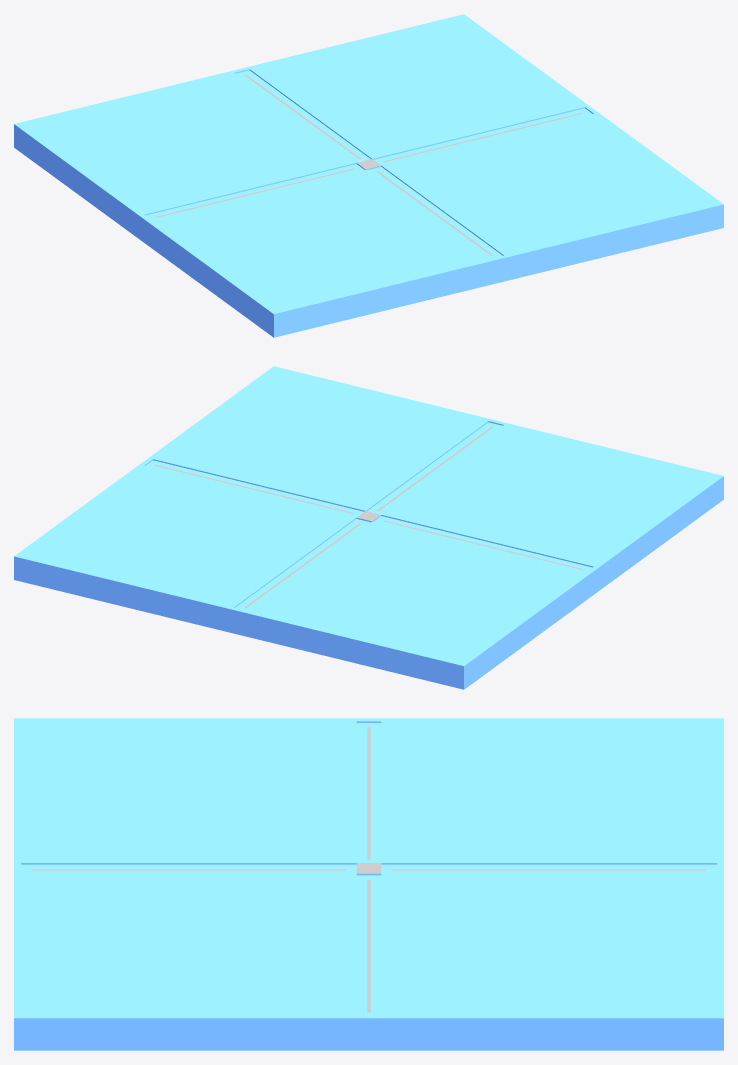
File: floor_3.fbx
3 views of the same model, one above another, from view 1: azimuth 30°, elevation 25°; view 2: azimuth 150°, elevation 25°; view 3: azimuth 270°, elevation 25° (orthographic). The views are drawn at different scales.
Parts seen in each view (by area): view 1: floor_3.001; view 2: floor_3.001; view 3: floor_3.001.
Part boxes in pixels (x1,y1,x2,y2): floor_3.001: (14,14,723,337); floor_3.001: (14,366,723,689); floor_3.001: (14,718,723,1050).
Size of the model in its own units: 8 by 0.4 by 8.
